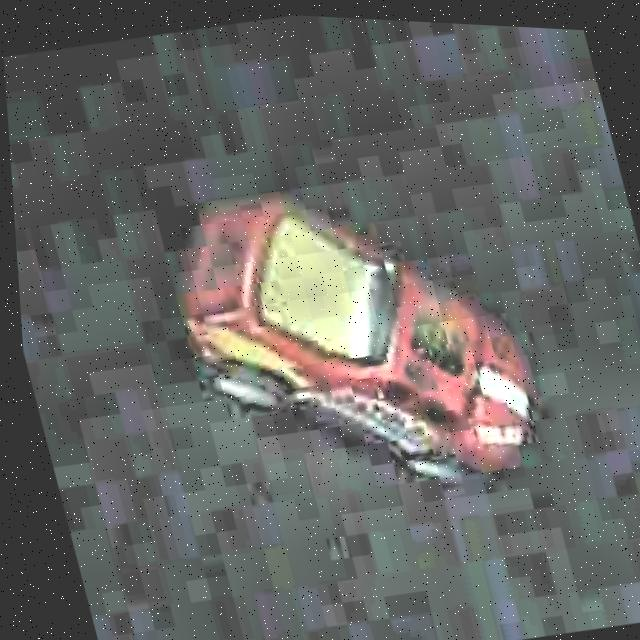car: (130, 131, 585, 548)
